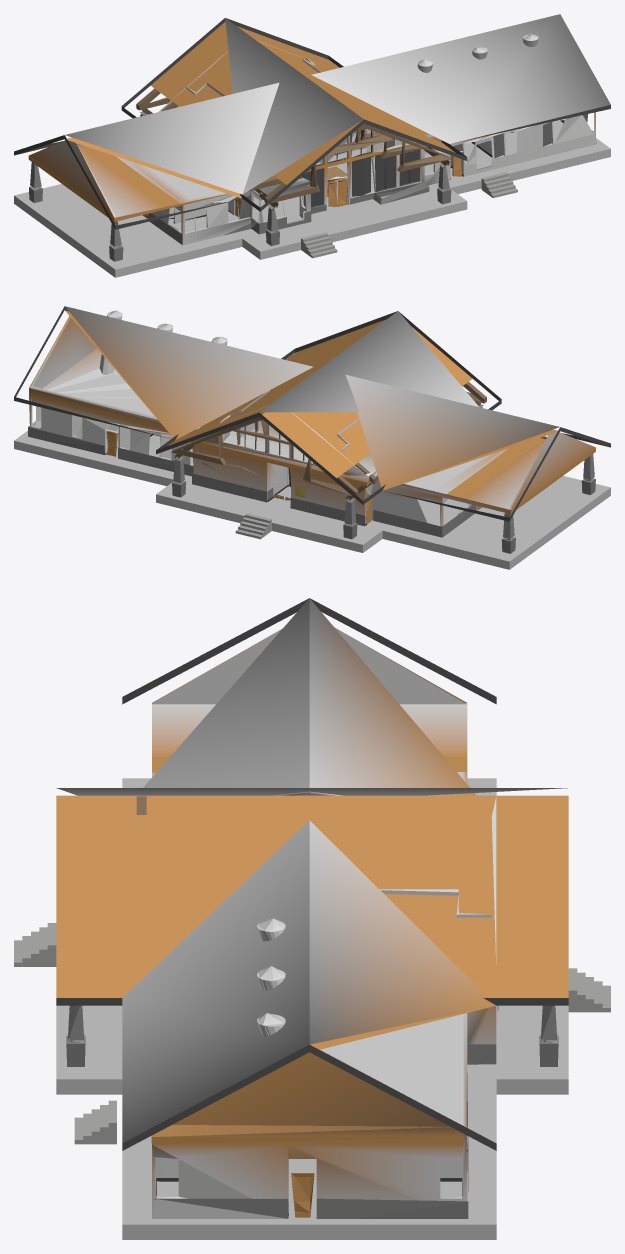
File: terminal.zfix-v14.lod0.glb
The picture shows the model from 3 angles, top to bottom: view 1: azimuth 30°, elevation 25°; view 2: azimuth 150°, elevation 25°; view 3: azimuth 270°, elevation 25°; orthographic projection. The views are drawn at different scales.
Visible parts, largest first — view 1: Mesh1_Metal_Aluminum_Anodized_0; view 2: Mesh1_Metal_Aluminum_Anodized_0; view 3: Mesh1_Metal_Aluminum_Anodized_0.
Part boxes in pixels (x1,y1,x2,y2): Mesh1_Metal_Aluminum_Anodized_0: (14,14,610,277); Mesh1_Metal_Aluminum_Anodized_0: (14,306,610,569); Mesh1_Metal_Aluminum_Anodized_0: (14,598,610,1239).
Size of the model in its own units: 40 by 8.9 by 22.6.
